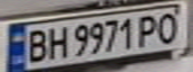1: (118, 15, 139, 49)
7: (103, 17, 121, 52)
9: (69, 21, 90, 57), (87, 19, 106, 56)
B: (21, 26, 51, 63)
H: (42, 24, 69, 60)
O: (151, 9, 184, 44)
P: (133, 11, 163, 47)
